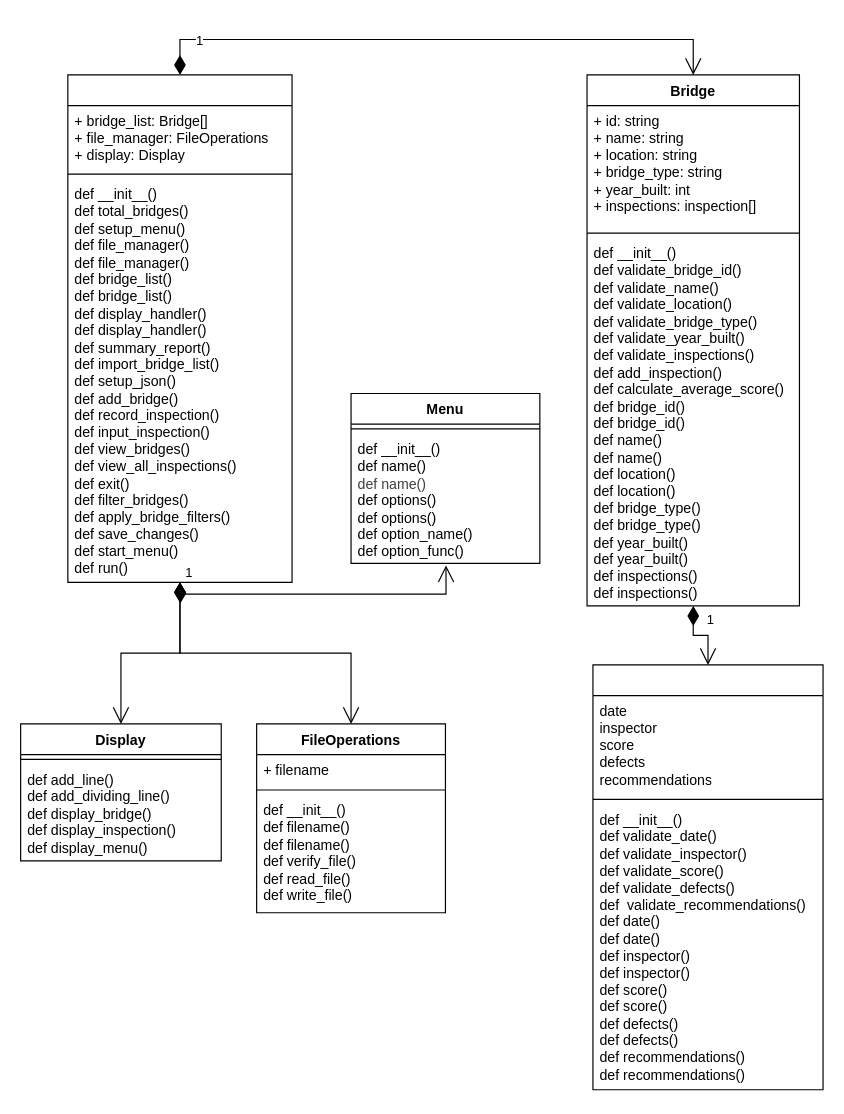
Image size: 844x1114. Some labels were removed from this diagram. The shapes that lost their labels are listed below. From the top down, each one's box as (x1, y1, x2, y2) in pixels, then its label:
(67, 74, 292, 582): BridgeManagmentSystem
(592, 664, 823, 1090): Inspection
